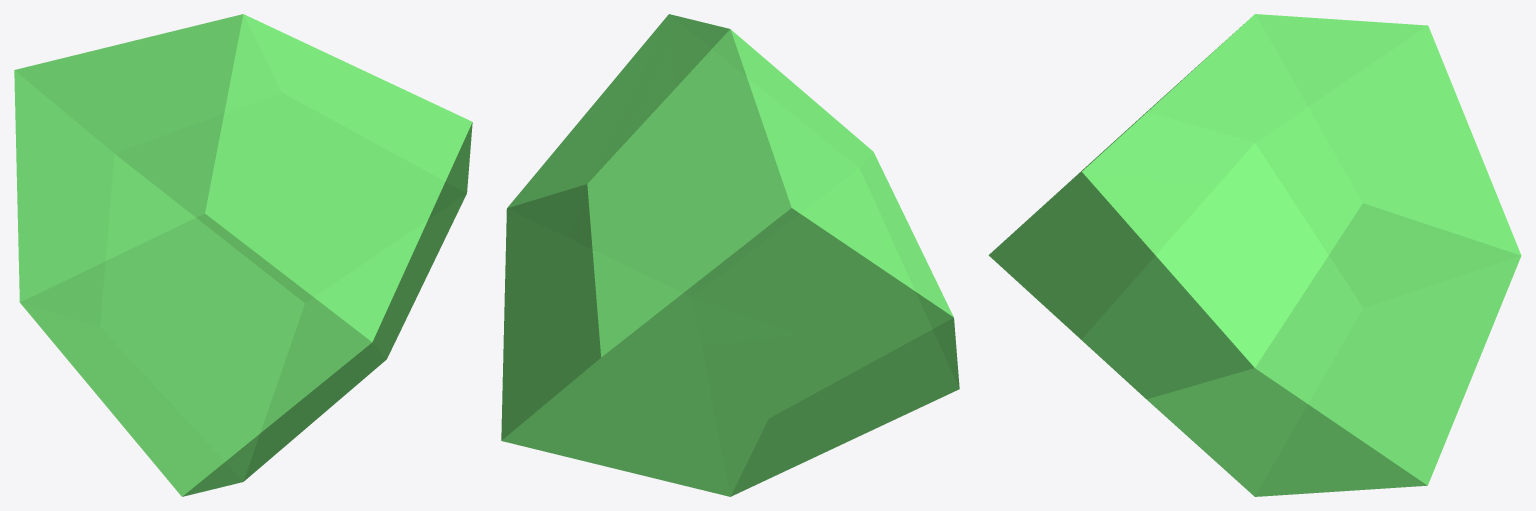
Rendered from TrapezohedralTristetrahedron_n21.obj.
The picture shows the model from 3 angles, left to right: view 1: azimuth 30°, elevation 25°; view 2: azimuth 150°, elevation 25°; view 3: azimuth 270°, elevation 25°; orthographic projection. The views are drawn at different scales.
Size of the model in its own units: 11.31 by 11.31 by 11.31.
